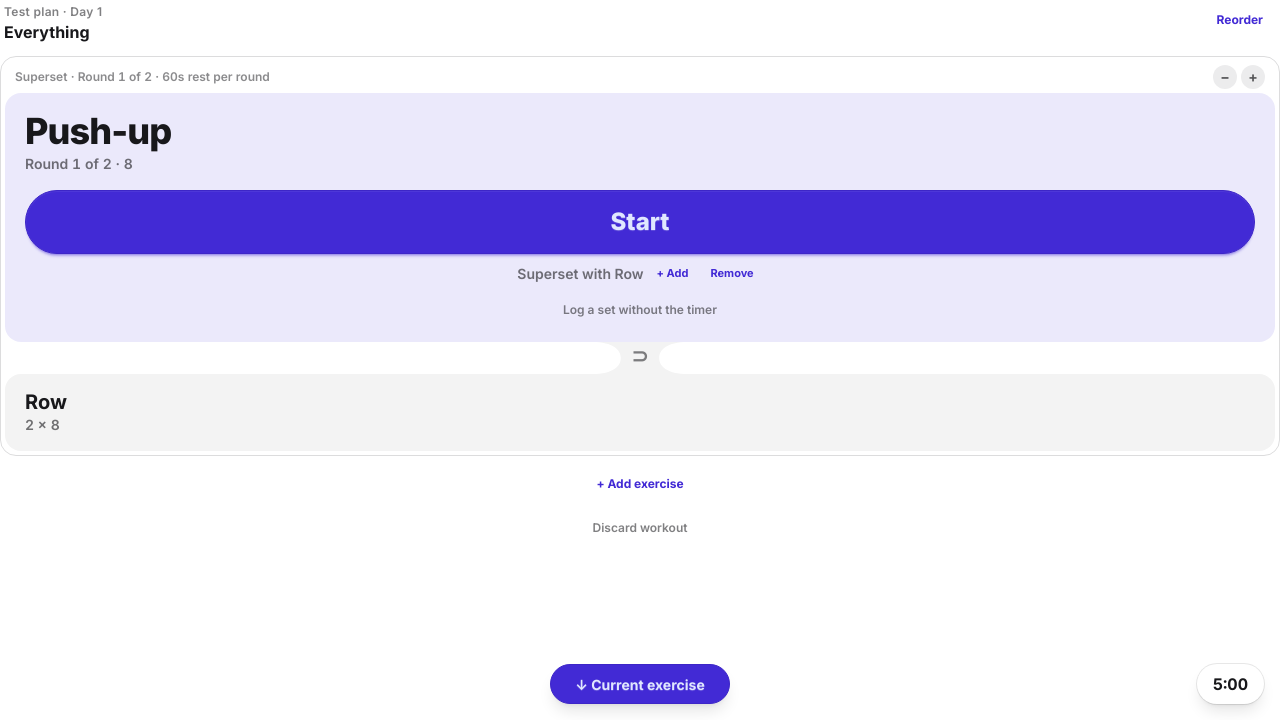
Test: editing an exercise mid-workout › changes a superset's rounds from any of its exercises
This screenshot has width=1280, height=720.
Click the button "Row" at x=46, y=402, box [25, 390, 67, 415]
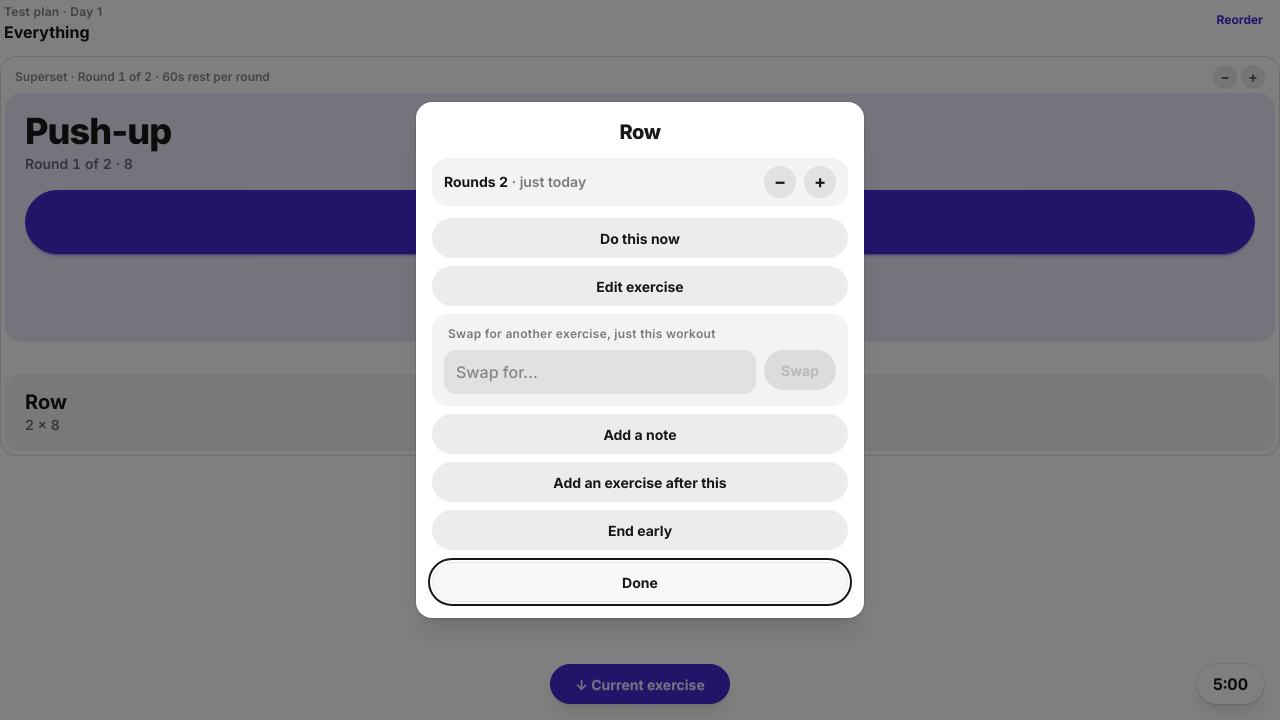
Click the button named "One more round" at x=820, y=182, box [804, 166, 836, 198]
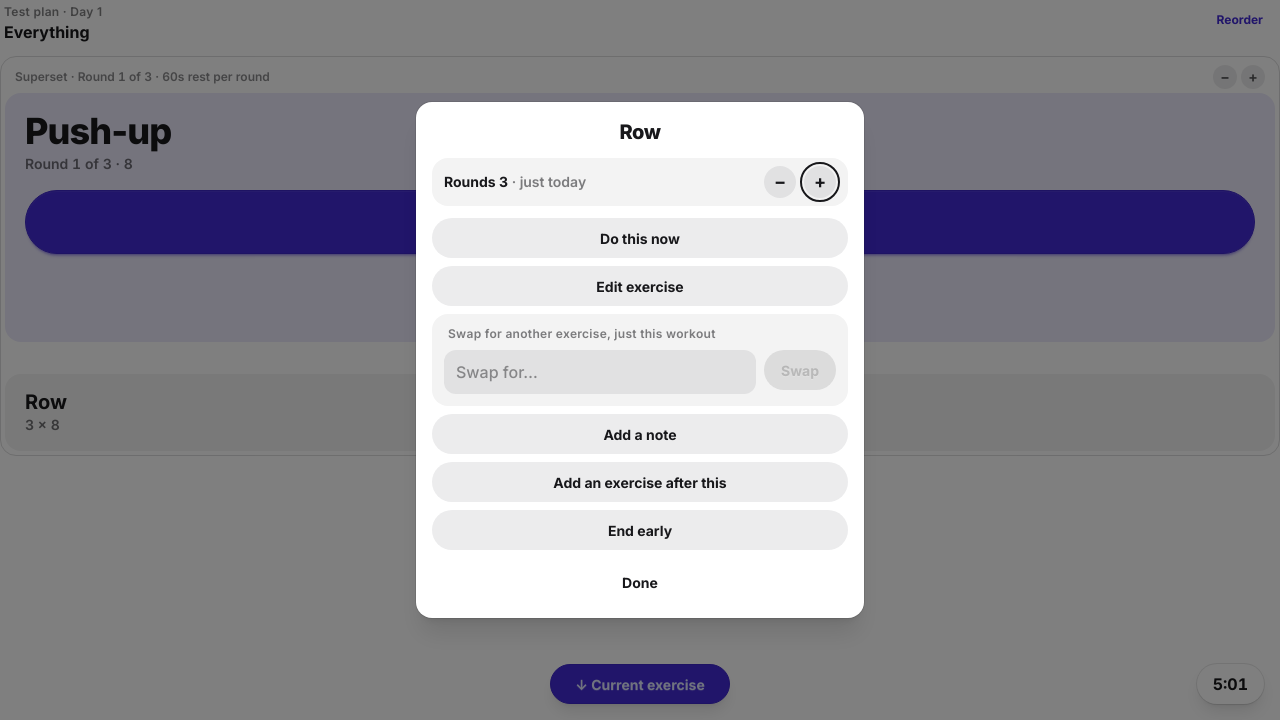
Result: the text "Superset · Round 1 of 3 · 60s rest per round" is shown at [15, 69, 270, 84]
